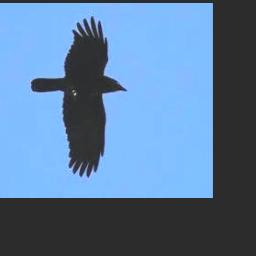Crow: (31, 16, 127, 178)
